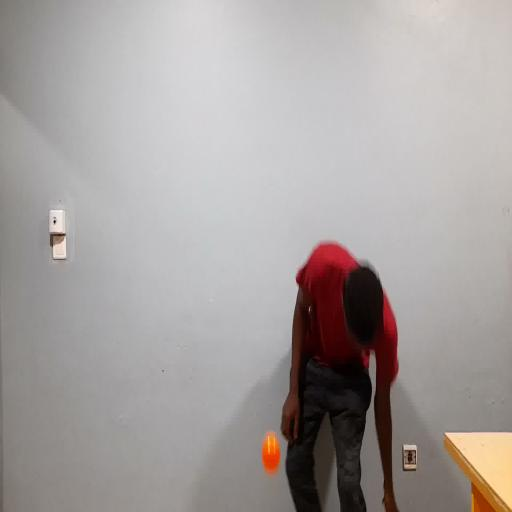plastic-ball: (259, 427, 283, 482)
